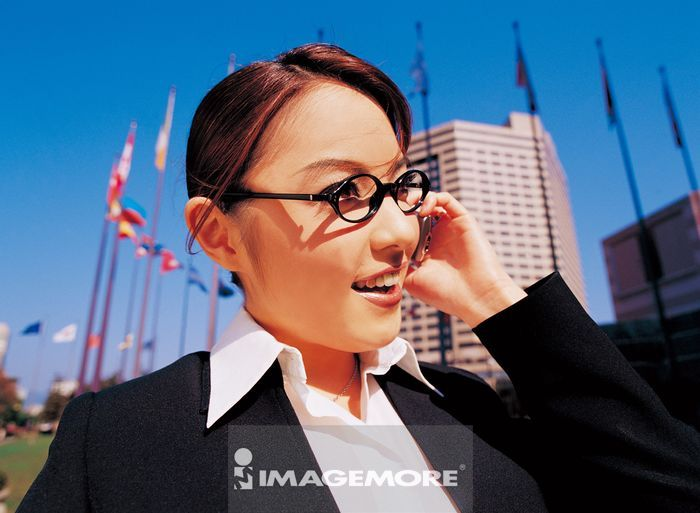talk: (289, 143, 495, 354)
